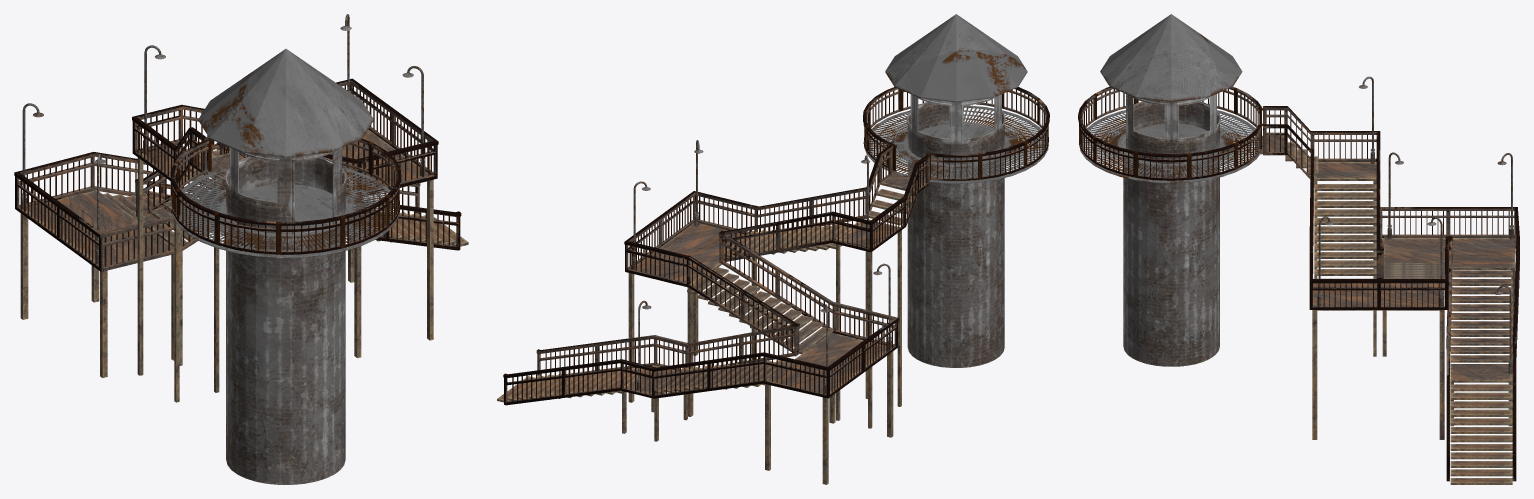
File: Escenario1_SUPERHOTUNITYfbx.fbx
3 views of the same model, side by side, from view 1: azimuth 30°, elevation 25°; view 2: azimuth 150°, elevation 25°; view 3: azimuth 270°, elevation 25° (orthographic). The views are drawn at different scales.
Parts seen in each view (by area): view 1: Cylinder, Cylinder.001, Cone, Circle, Cube.006, Cube.002, Cube.004, Cube.009, Rejilla.071, Cube.005, Rejilla.050, Cube.007 (+4 smaller); view 2: Cylinder.001, Cylinder, Cone, Circle, Cube.006, Cube.004, Cube.005, Cube.002, Cube.009, Cube.007, Cube.003, Cube.008 (+11 smaller); view 3: Cylinder, Cylinder.001, Cone, Cube.009, Circle, Cube.003, Cube.007, Cube.004, Cube.006, Cube.002, Cube.008, Cube.005 (+3 smaller).
Part boxes in pixels (x1,y1,x2,y2): Cylinder: (225,147,346,484); Cylinder.001: (14,78,461,271); Cone: (198,49,373,157); Circle: (172,167,399,257); Cube.006: (20,190,174,377); Cube.002: (137,145,219,402); Cube.004: (328,129,433,358); Cube.009: (346,211,468,246); Rejilla.071: (20,180,96,264); Cube.005: (137,178,225,247); Rejilla.050: (356,88,431,171); Cube.007: (103,193,224,233); Cylinder.001: (503,87,1049,405); Cylinder: (907,94,1005,367); Cone: (885,14,1027,102); Circle: (864,105,1048,183); Cube.006: (765,332,893,484); Cube.004: (628,222,756,416); Cube.005: (687,267,833,354); Cube.002: (836,219,901,428); Cube.009: (497,367,644,402); Cube.007: (655,360,789,393); Cube.003: (724,222,861,257); Cube.008: (622,365,687,441); Cylinder: (1122,94,1220,366); Cylinder.001: (1078,87,1519,481); Cone: (1100,14,1242,101); Cube.009: (1450,384,1512,484); Circle: (1079,110,1262,183); Cube.003: (1314,184,1376,275); Cube.007: (1450,270,1512,362); Cube.004: (1312,278,1444,439); Cube.006: (1382,238,1514,356); Cube.002: (1314,162,1376,356); Cube.008: (1450,364,1512,426); Cube.005: (1384,263,1444,286).
Bounding box in the file's own units: 13.38 × 13.91 × 11.61.
Materials: 5 (5 with a texture image).
